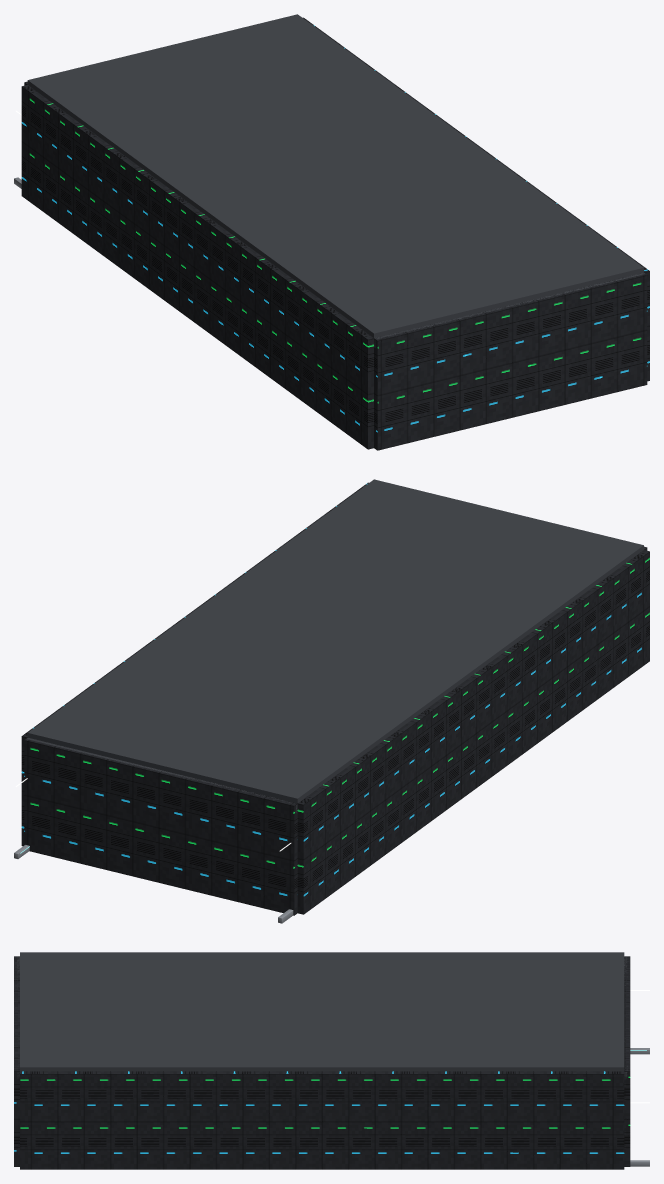
The model's file is arena.glb.
3 views of the same model, one above another, from view 1: azimuth 30°, elevation 25°; view 2: azimuth 150°, elevation 25°; view 3: azimuth 270°, elevation 25° (orthographic). The views are drawn at different scales.
Visible parts, largest first — view 1: Arena_ArenaFrame, Arena_Wall; view 2: Arena_ArenaFrame, Arena_Wall; view 3: Arena_ArenaFrame, Arena_Wall.
Part boxes in pixels (x1,y1,x2,y2): Arena_ArenaFrame: (27, 14, 644, 347); Arena_Wall: (21, 17, 649, 450); Arena_ArenaFrame: (27, 479, 644, 812); Arena_Wall: (21, 482, 649, 915); Arena_ArenaFrame: (17, 952, 627, 1078); Arena_Wall: (14, 956, 630, 1169).
Bounding box in the file's own units: 18.8 × 7.3 × 42.1.
Materials: 11 (2 with a texture image).
